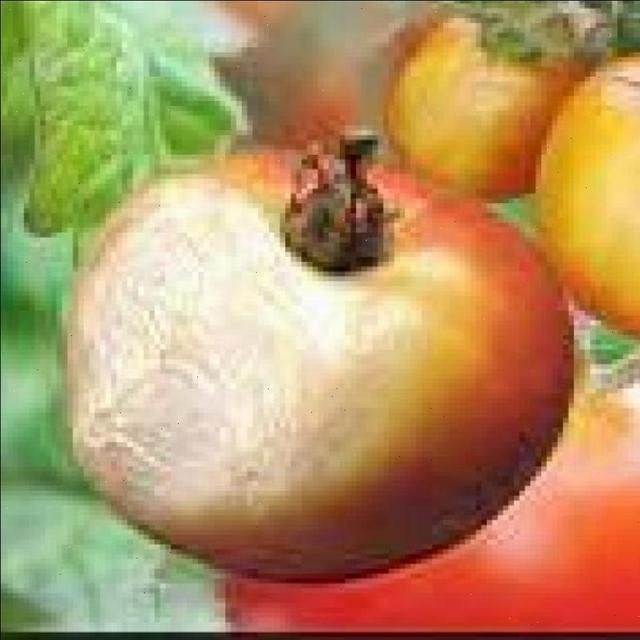Sunscald Fruit: (23, 119, 302, 359)
